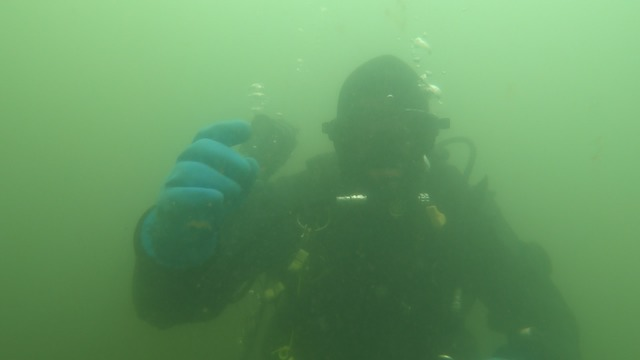Hand: (139, 108, 275, 274)
Head: (322, 47, 458, 220)
